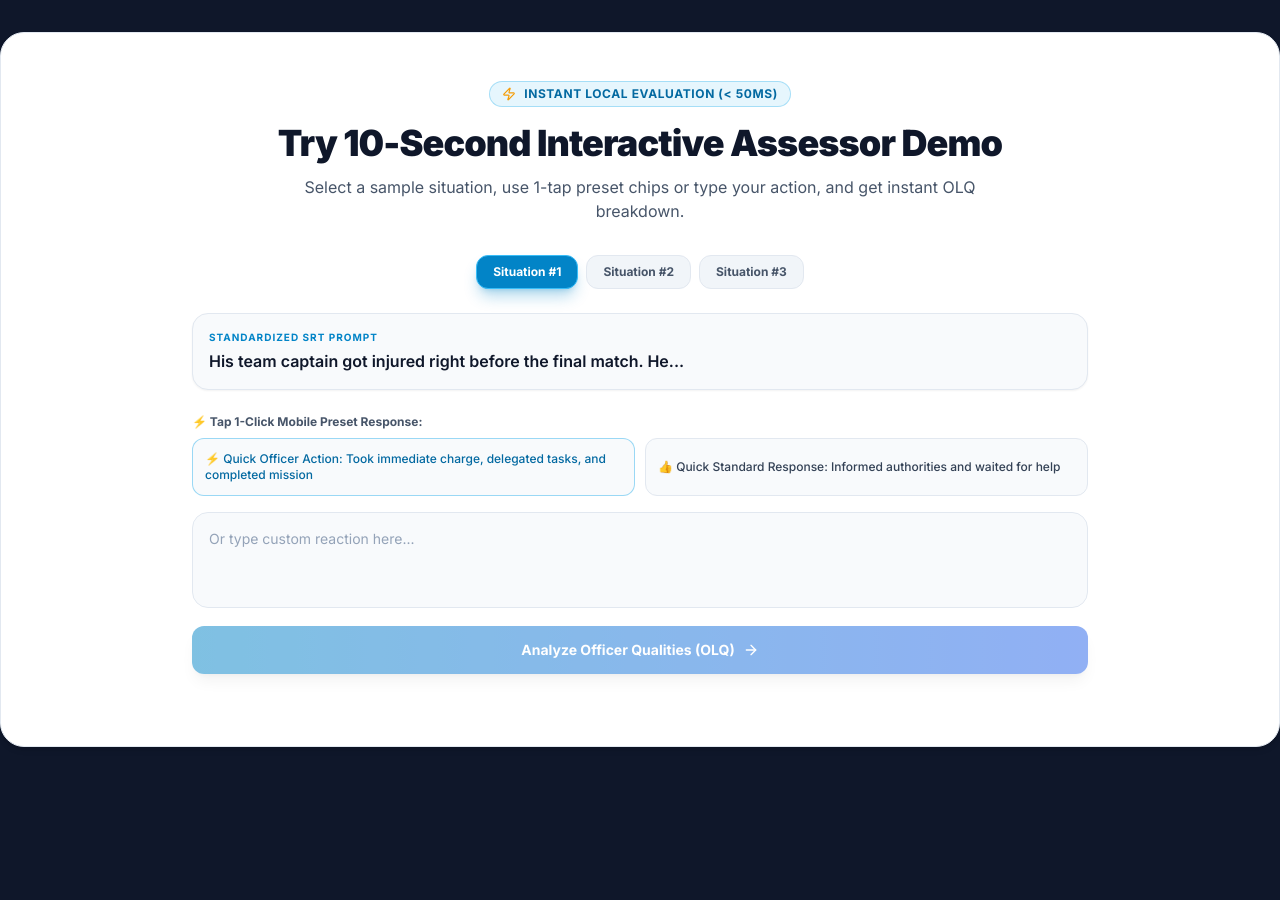
Test: InteractiveSandbox Component & Local Evaluator › runs local analysis on custom text input
In the text box with test id "sandbox-text-input": (640, 560) 192,512 -> 1088,608, type "Immediately took charge and led the team to complete the mission"
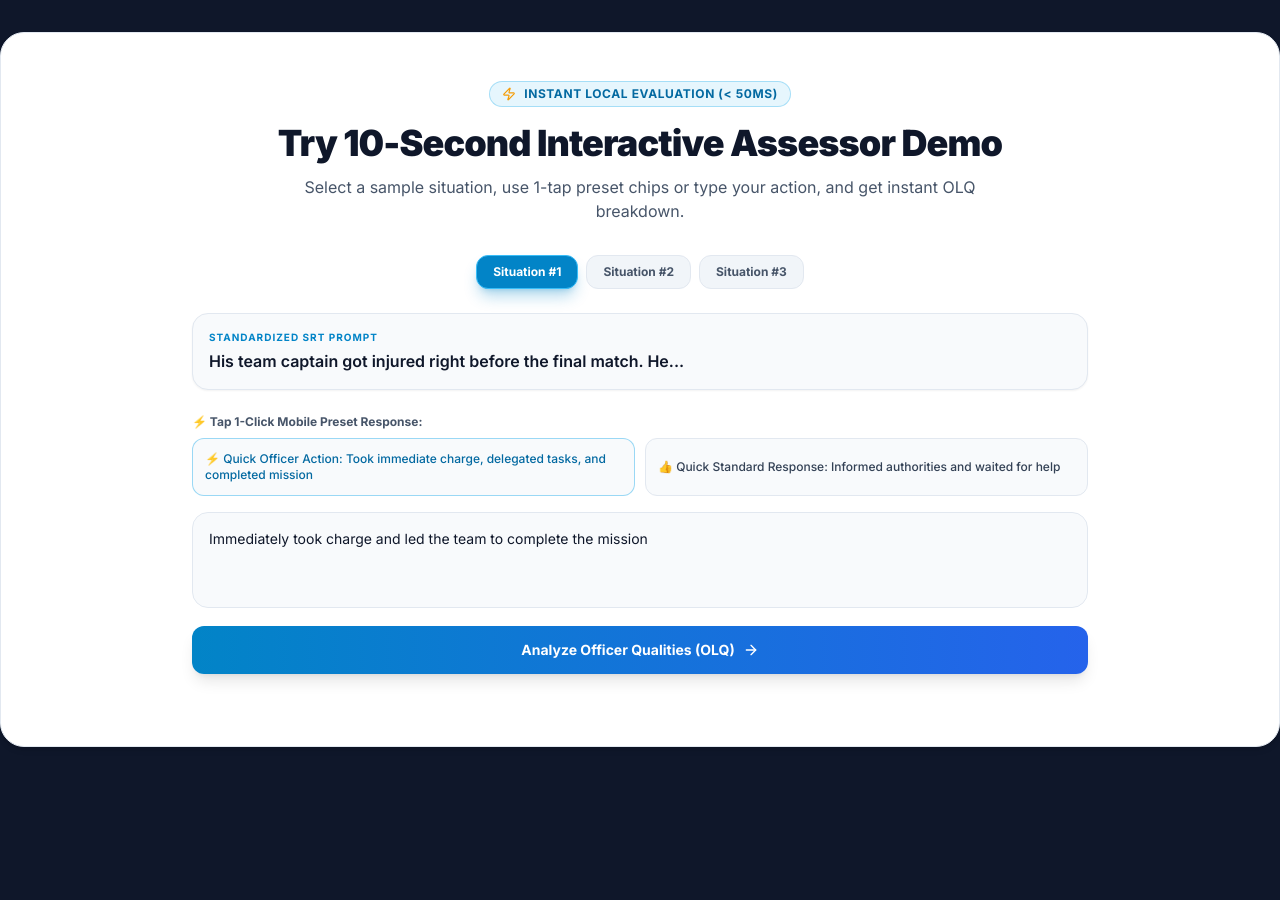
Click the button with test id "analyze-olq-btn": (640, 650) 192,626 -> 1088,674
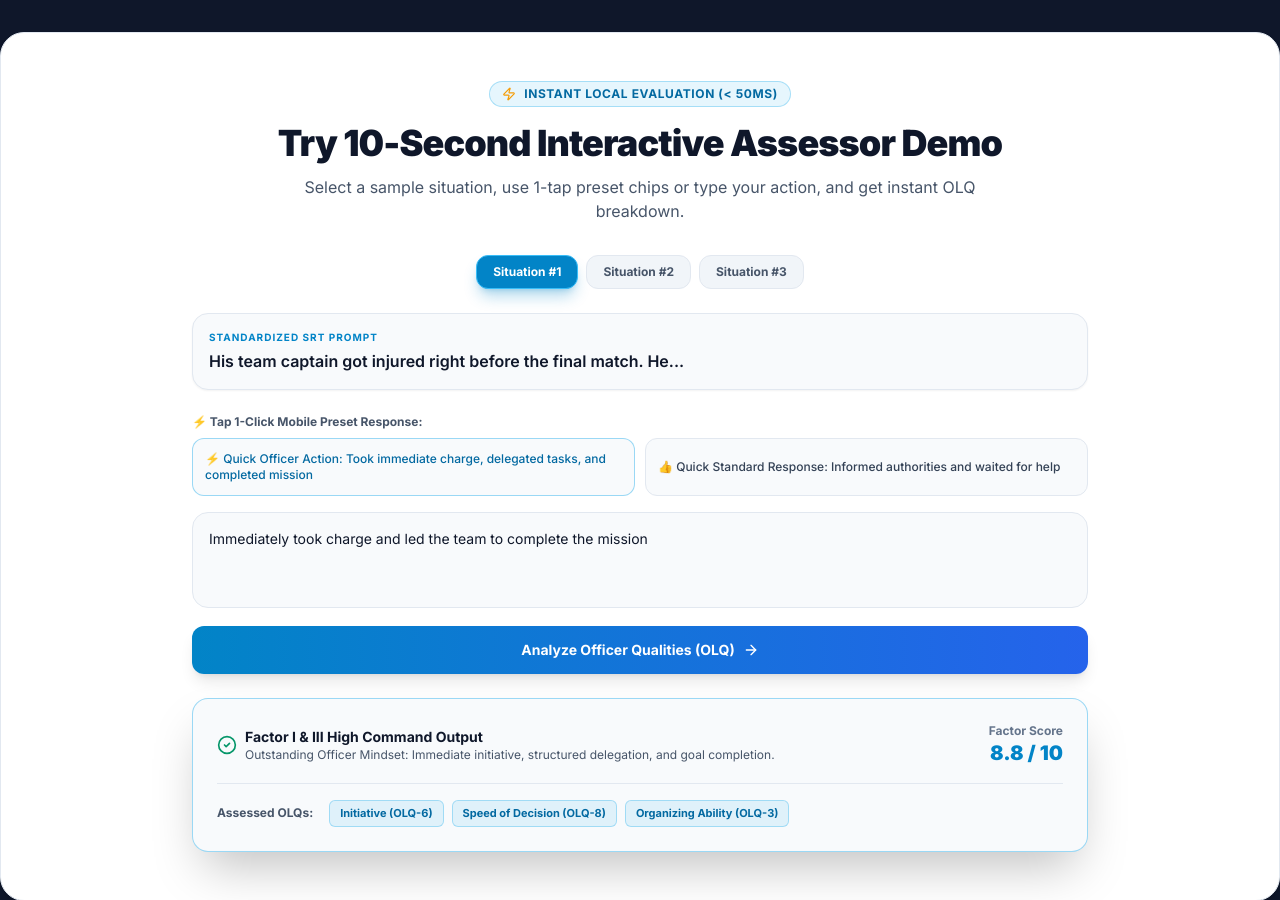
Expected: the element with test id "sandbox-result-card" is shown, 192,698 -> 1088,852
Expected: the text "8.8 / 10" is shown, 990,741 -> 1063,765
